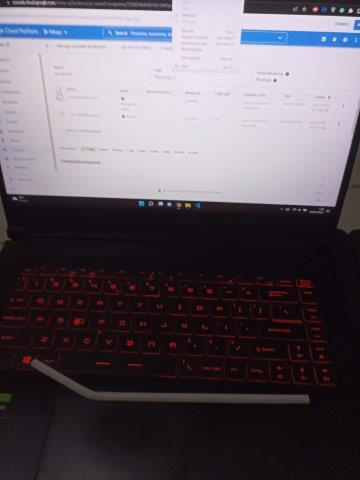sedotan: (30, 359, 309, 404)
